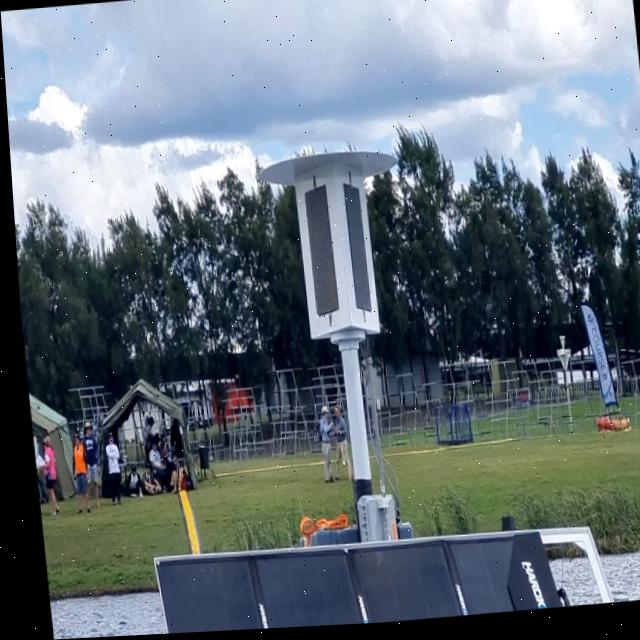led: (294, 181, 340, 324), (333, 174, 371, 330)
